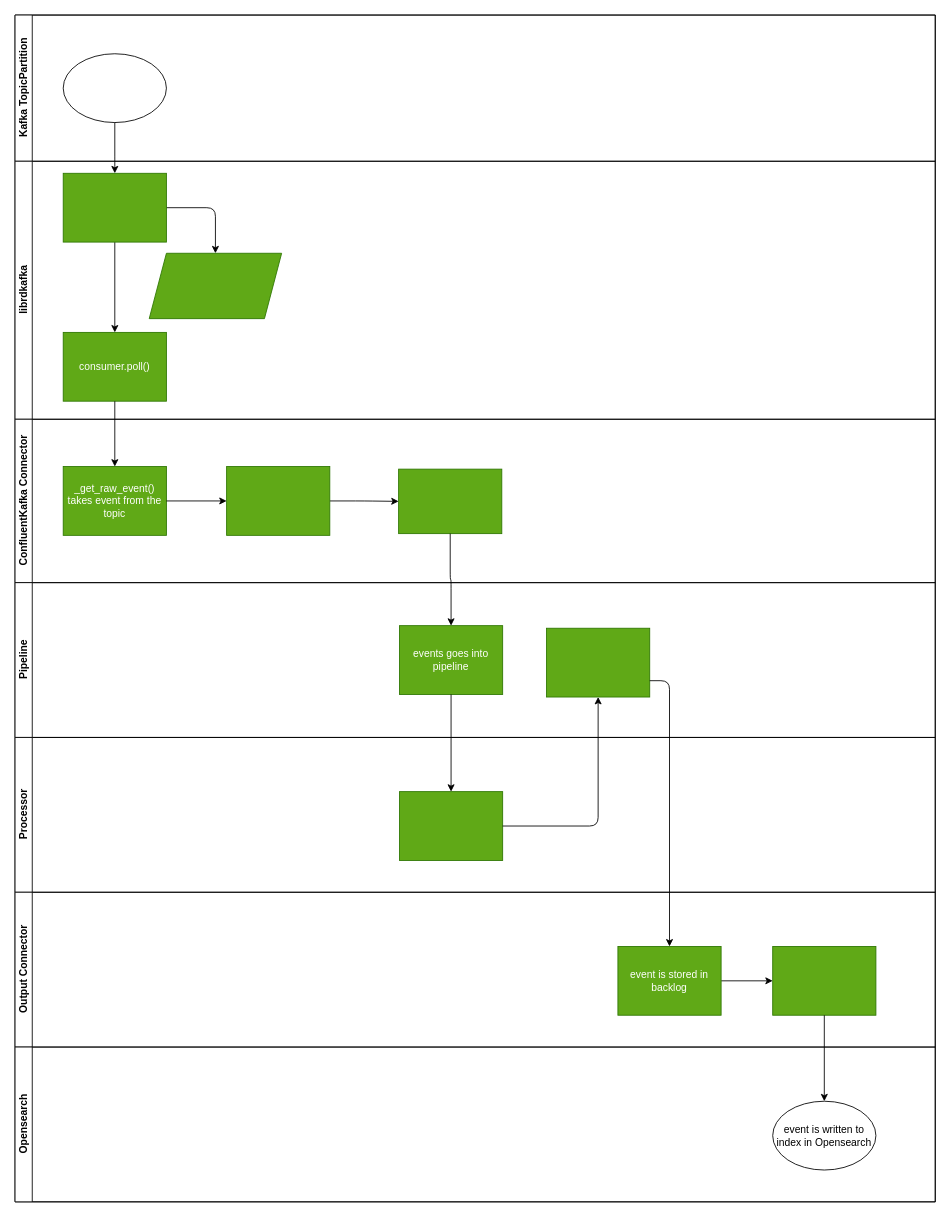
Some shapes in this 950 by 1217 pixel diagram are drawn without their labels. The centre of each missing label's shape, as x and y in pixels:
"_get_event() parses raw event in json" belongs at [278,500].
"backlog full or flush timeout exceeded" belongs at [824,980].
"event being processed by processors" belongs at [451,825].
"event given back to pipeline" belongs at [598,662].
"get_next()" belongs at [450,501].
"message Queue per TopicPartition" belongs at [215,285].
"poll()" belongs at [114,207].
